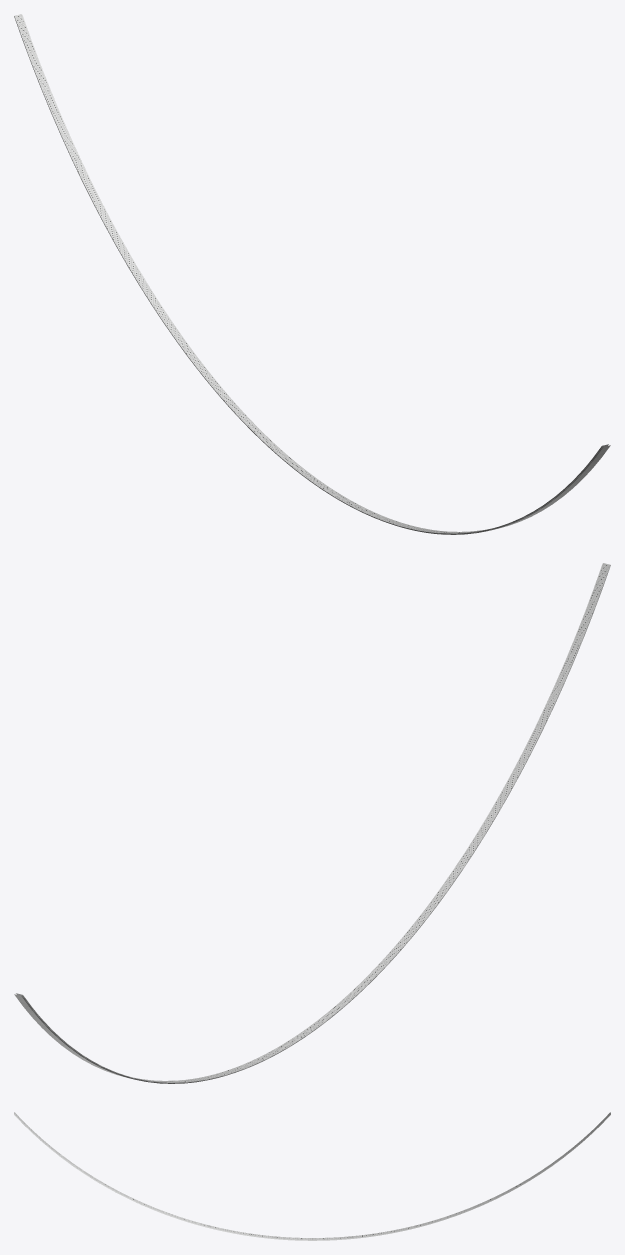
File: PresidiumRing_Roof01b.FBX
3 views of the same model, one above another, from view 1: azimuth 30°, elevation 25°; view 2: azimuth 150°, elevation 25°; view 3: azimuth 270°, elevation 25° (orthographic). The views are drawn at different scales.
Parts seen in each view (by area): view 1: PresidiumRing_Roof01b; view 2: PresidiumRing_Roof01b; view 3: PresidiumRing_Roof01b.
Boxes of the visible parts, box(x1,y1,x2,y2) form: PresidiumRing_Roof01b: box(14, 14, 610, 534); PresidiumRing_Roof01b: box(14, 563, 610, 1083); PresidiumRing_Roof01b: box(14, 1112, 610, 1240).
Size of the model in its own units: 41.55 by 1159 by 4954.
